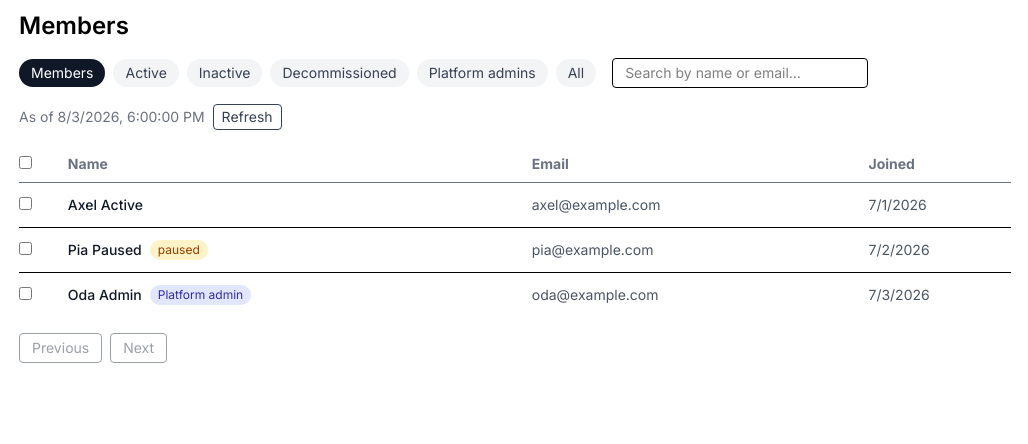
Test: AdminMembersList — the bulk family (FEAT-H039 STORY-3/4/5) › the bulk bar renders exactly Suspend, Reactivate, Force sign-out — only with a selection
Click the checkbox named "Select Axel Active" at (26, 204), box [19,197,32,210]
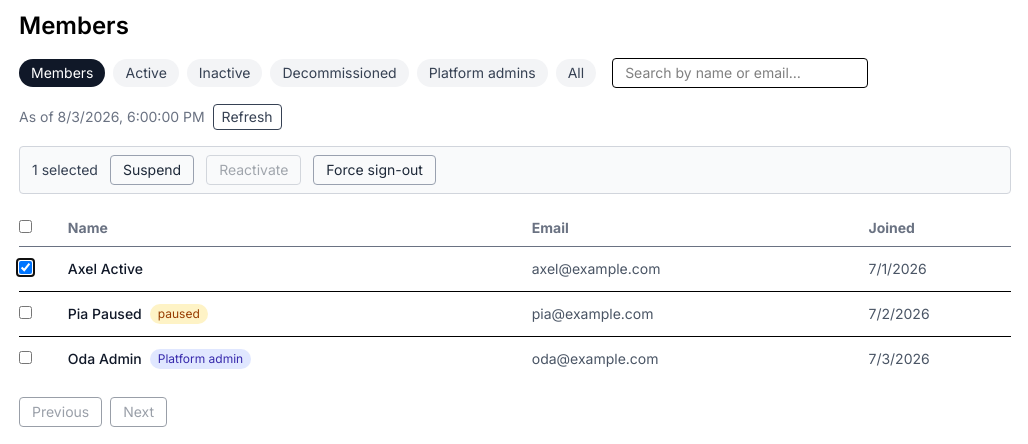
Check: the button with test id "bulk-suspend" is shown, box [110,155,194,185]
Check: the button with test id "bulk-reactivate" is shown, box [206,155,301,185]
Check: the button with test id "bulk-force-logout" is shown, box [313,155,436,185]
